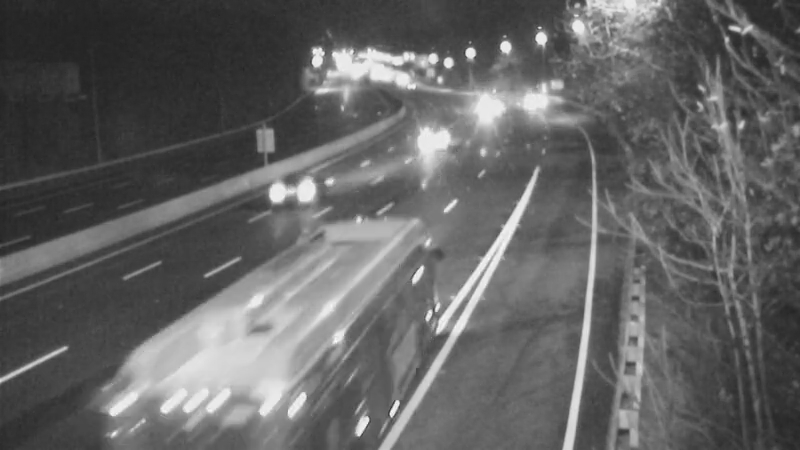vehicle: (239, 253, 349, 363), (242, 156, 322, 236), (511, 76, 561, 126), (460, 80, 510, 130), (411, 111, 461, 161)
